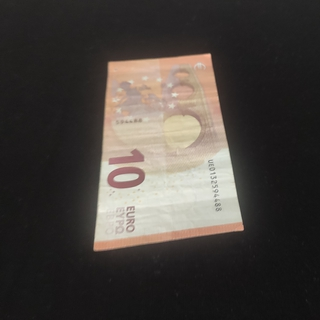10EUROBack: (93, 52, 244, 253)
